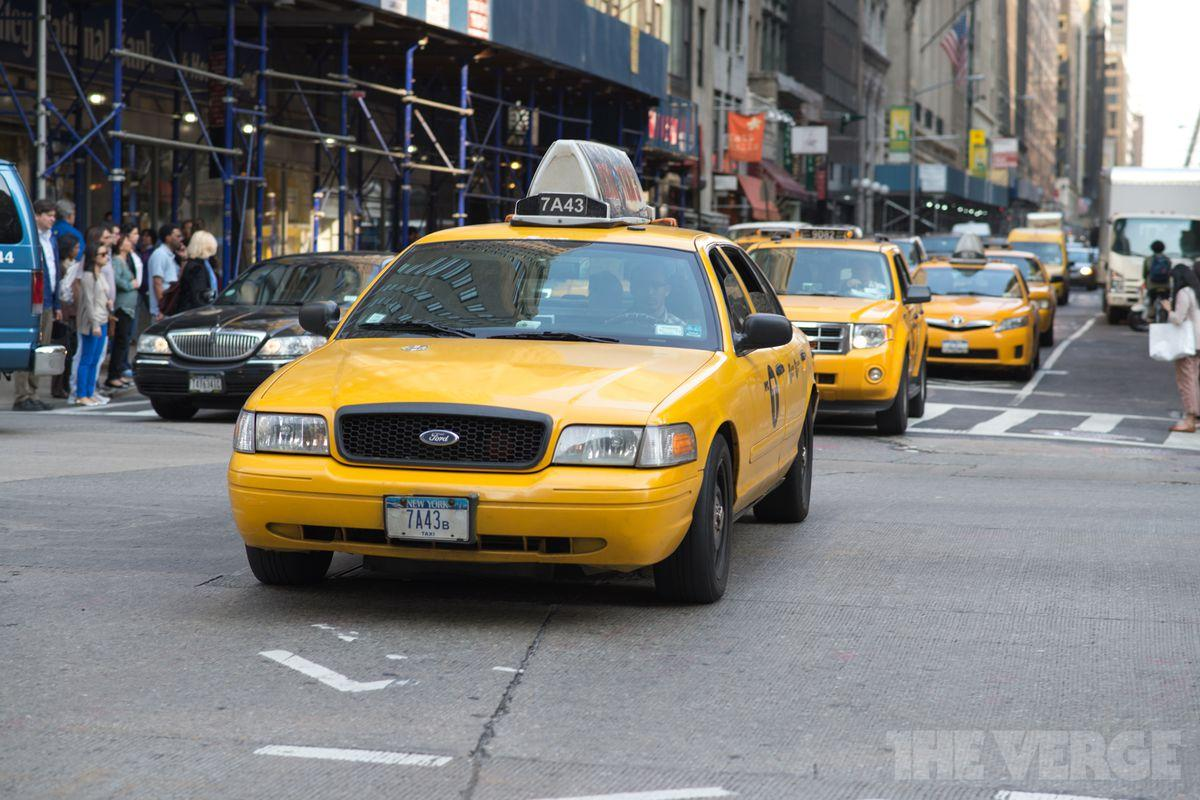taxi: (212, 224, 832, 601)
